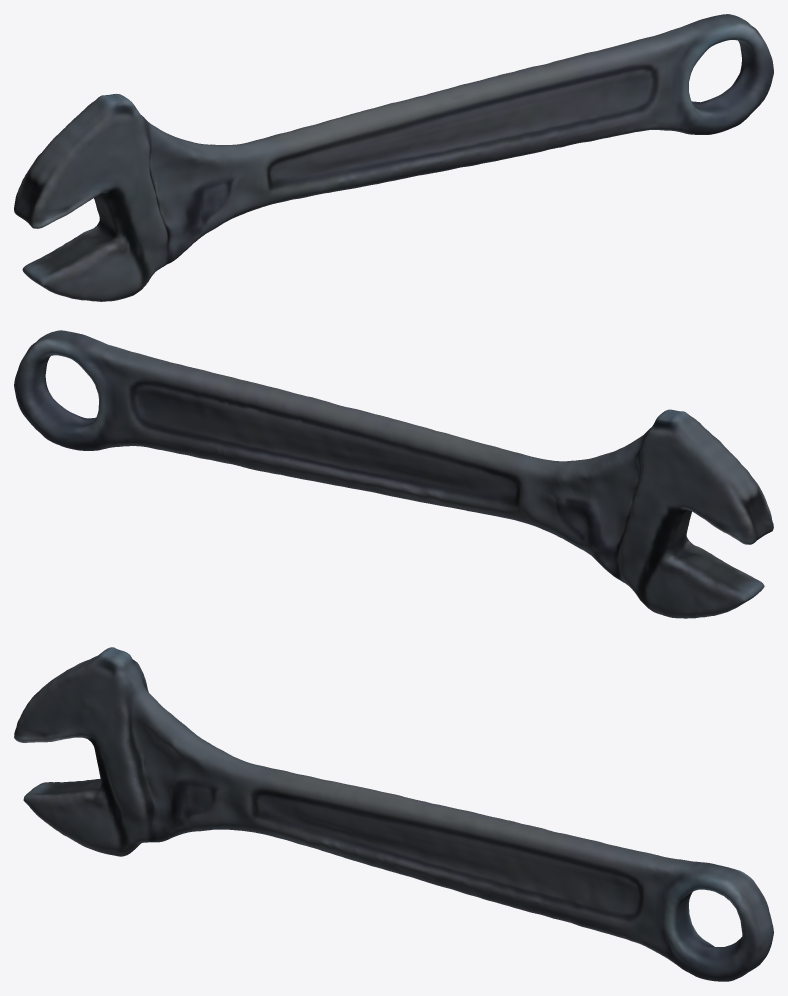
Rendered from Llave Inglesa.glb.
3 renders of one model, top to bottom at view 1: azimuth 30°, elevation 25°; view 2: azimuth 150°, elevation 25°; view 3: azimuth 330°, elevation 25°, orthographic.
Parts seen in each view (by area): view 1: world; view 2: world; view 3: world.
Boxes of the visible parts, box(x1,y1,x2,y2) form: world: box(14, 14, 773, 301); world: box(14, 330, 773, 618); world: box(14, 647, 773, 981).
Size of the model in its own units: 0.6042 by 0.1547 by 0.0384.
1 material, 1 textured.
